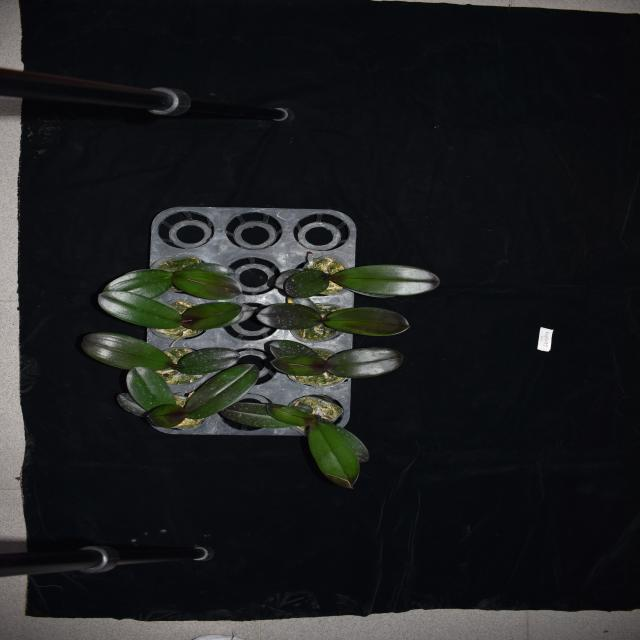leaf: (182, 362, 260, 419), (327, 264, 441, 299), (304, 420, 360, 490), (85, 331, 178, 372), (97, 292, 181, 328), (102, 263, 173, 301), (127, 364, 179, 414), (325, 306, 409, 336), (328, 346, 402, 377), (172, 269, 243, 300), (217, 402, 295, 428), (255, 302, 322, 331), (323, 422, 369, 463), (174, 346, 240, 374), (181, 302, 242, 331), (271, 353, 327, 377), (266, 340, 326, 362), (264, 400, 318, 424), (283, 271, 328, 299), (146, 401, 186, 429), (114, 392, 146, 420)
